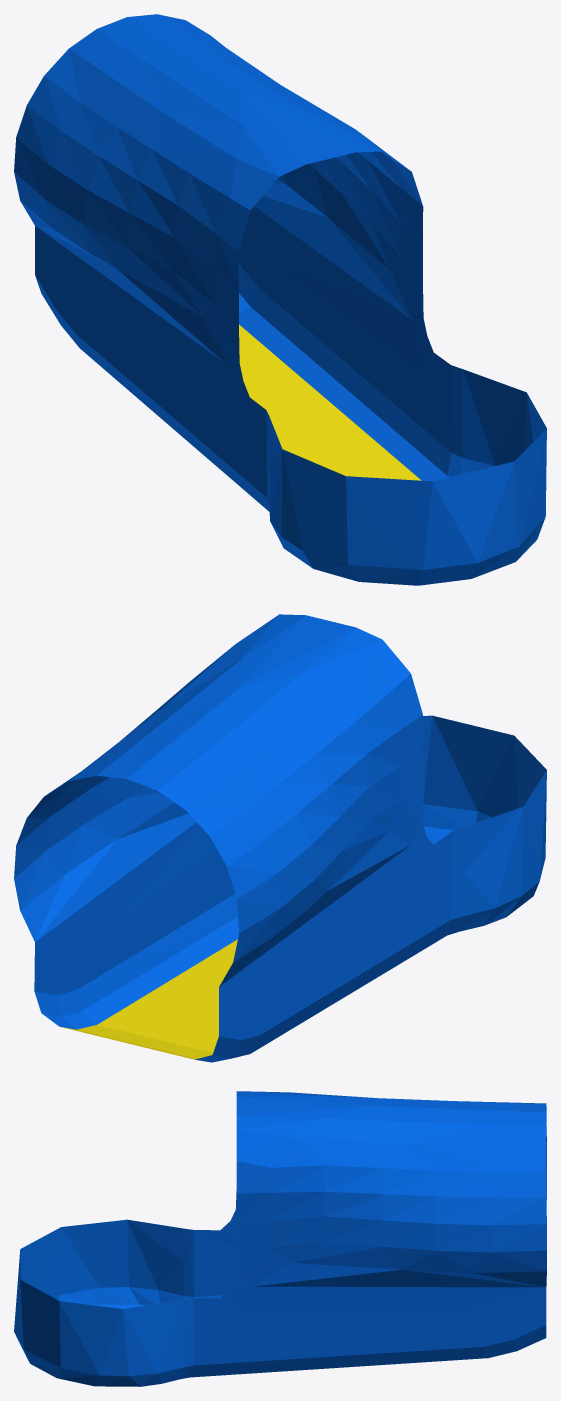
File: RARM_LINK3_mesh.dae
3 views of the same model, one above another, from view 1: azimuth 30°, elevation 25°; view 2: azimuth 150°, elevation 25°; view 3: azimuth 270°, elevation 25° (orthographic). The views are drawn at different scales.
Parts seen in each view (by area): view 1: RARM_LINK3 (×2); view 2: RARM_LINK3 (×2); view 3: RARM_LINK3.
Part boxes in pixels (box(x1,y1,x2,y2)): RARM_LINK3 (×2): box(14, 14, 546, 585); RARM_LINK3 (×2): box(14, 614, 546, 1062); RARM_LINK3: box(14, 1091, 546, 1386).
Bounding box in the file's own units: 0.0769 × 0.0985 × 0.1937.
